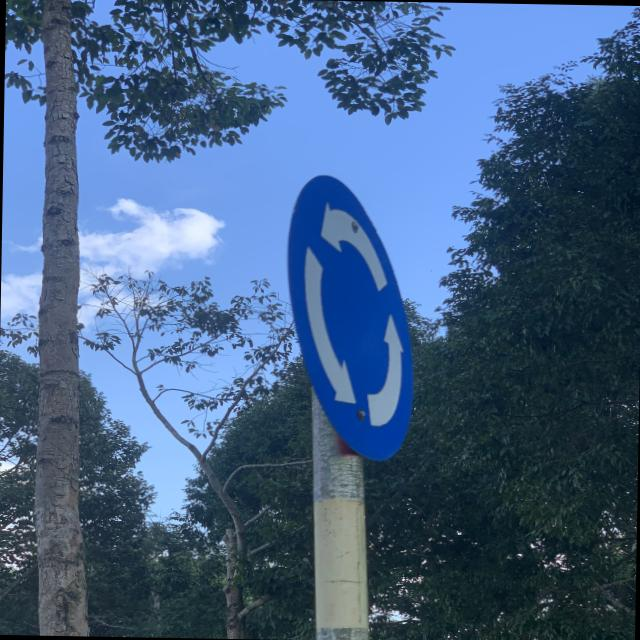Xe_Bus: (280, 172, 420, 462)
